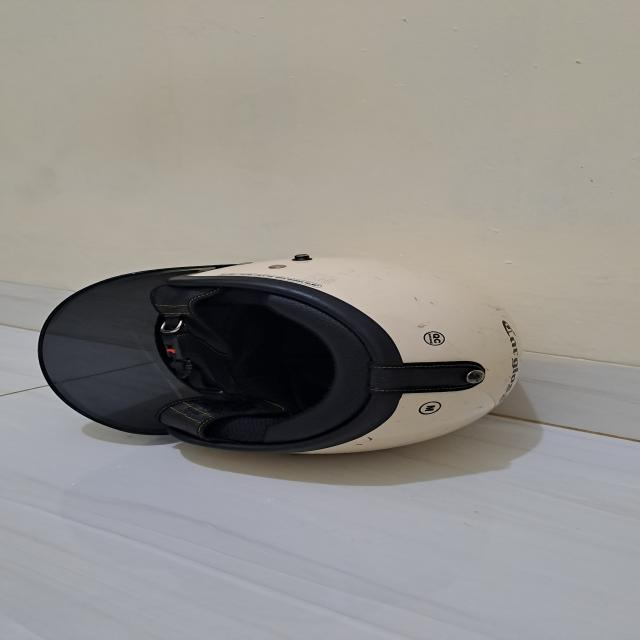Helm: (29, 248, 541, 462)
